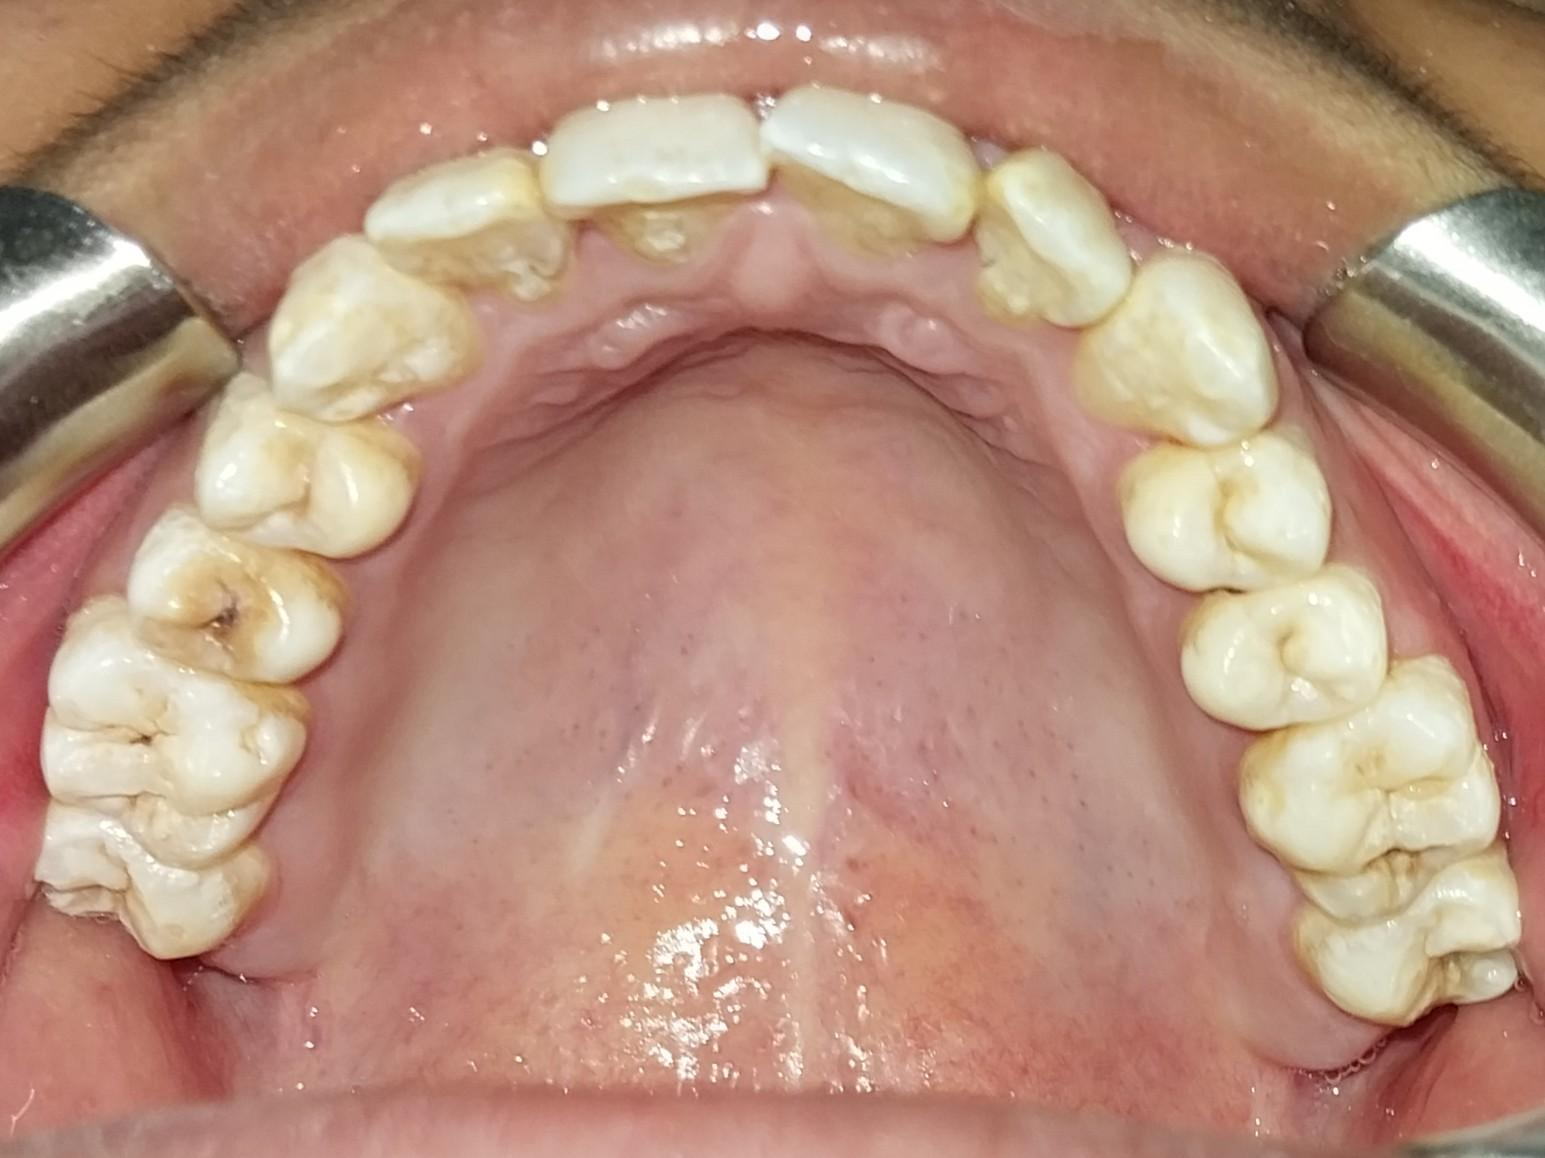D: (1235, 656, 1505, 922), (37, 614, 301, 875), (109, 504, 355, 690)
